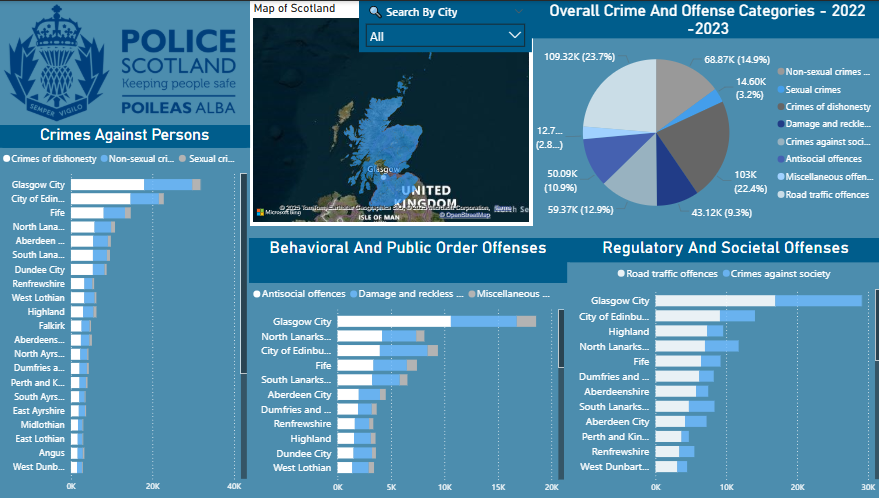

Layout of this report page (visuals, bound fields, positions):
{"tool":"powerbi","page":{"name":"Page 1","canvas":[1280,720],"ordinal":0},"visuals":[{"type":"pieChart","fields":{"Y":["Sum(Scotland Crime Report 2022-23, Cities Breakdown.All Group 1: Non-sexual crimes of violence)","Sum(Scotland Crime Report 2022-23, Cities Breakdown.All Group 2: Sexual crimes)","Sum(Scotland Crime Report 2022-23, Cities Breakdown.All Group 3: Crimes of dishonesty)","Sum(Scotland Crime Report 2022-23, Cities Breakdown.All Group 4: Damage and reckless behaviour)","Sum(Scotland Crime Report 2022-23, Cities Breakdown.All Group 5: Crimes against society)","Sum(Scotland Crime Report 2022-23, Cities Breakdown.All Group 6: Antisocial offences)","Sum(Scotland Crime Report 2022-23, Cities Breakdown.All Group 7: Miscellaneous offences)","Sum(Scotland Crime Report 2022-23, Cities Breakdown.All Group 8: Road traffic offences)"]},"box":[770.6,27.5,508.9,325.3],"z":0},{"type":"image","box":[0,0,348.4,179.3],"z":1000},{"type":"filledMap","fields":{"Category":["Scotland Crime Report 2022-23, Cities Breakdown.Reference Area"]},"box":[362.9,0,407.7,325.3],"z":2000},{"type":"barChart","title":"Crimes Against Persons","fields":{"Category":["Scotland Crime Report 2022-23, Cities Breakdown.Reference Area"],"Y":["Sum(Scotland Crime Report 2022-23, Cities Breakdown.All Group 3: Crimes of dishonesty)","Sum(Scotland Crime Report 2022-23, Cities Breakdown.All Group 1: Non-sexual crimes of violence)","Sum(Scotland Crime Report 2022-23, Cities Breakdown.All Group 2: Sexual crimes)"]},"box":[0,179.7,362.8,540.9],"z":3000},{"type":"barChart","title":"Behavioral And Public Order Offenses ","fields":{"Category":["Scotland Crime Report 2022-23, Cities Breakdown.Reference Area"],"Y":["Sum(Scotland Crime Report 2022-23, Cities Breakdown.All Group 6: Antisocial offences)","Sum(Scotland Crime Report 2022-23, Cities Breakdown.All Group 4: Damage and reckless behaviour)","Sum(Scotland Crime Report 2022-23, Cities Breakdown.All Group 7: Miscellaneous offences)"]},"box":[361.2,342.7,460.3,378],"z":4000},{"type":"barChart","title":"Regulatory And Societal Offenses ","fields":{"Category":["Scotland Crime Report 2022-23, Cities Breakdown.Reference Area"],"Y":["Sum(Scotland Crime Report 2022-23, Cities Breakdown.All Group 8: Road traffic offences)","Sum(Scotland Crime Report 2022-23, Cities Breakdown.All Group 5: Crimes against society)"]},"box":[821.2,342.7,458.3,377.3],"z":5000},{"type":"shape","title":"Overall Crime And Offense Categories - 2022 -2023","box":[769.3,0,510.7,53.8],"z":6000},{"type":"slicer","fields":{"Values":["Scotland Crime Report 2022-23, Cities Breakdown.Reference Area"]},"box":[520.5,0,250.1,73.7],"z":7000}]}

Visuals, with their boxes in screenshot pixels (x1, y1, x2, y2), scaled from the page's 1280x720 canvas onto the 879x498 screenshot:
pieChart - Sum(Scotland Crime Report 2022-23, Cities Breakdown.All Group 1: Non-sexual crimes of violence) x Sum(Scotland Crime Report 2022-23, Cities Breakdown.All Group 2: Sexual crimes): x1=529 y1=19 x2=878 y2=244
image: x1=0 y1=0 x2=239 y2=124
filledMap - Scotland Crime Report 2022-23, Cities Breakdown.Reference Area: x1=249 y1=0 x2=529 y2=225
"Crimes Against Persons" barChart: x1=0 y1=124 x2=249 y2=497
"Behavioral And Public Order Offenses " barChart: x1=248 y1=237 x2=564 y2=497
"Regulatory And Societal Offenses " barChart: x1=564 y1=237 x2=878 y2=497
"Overall Crime And Offense Categories - 2022 -2023" shape: x1=528 y1=0 x2=878 y2=37
slicer - Scotland Crime Report 2022-23, Cities Breakdown.Reference Area: x1=357 y1=0 x2=529 y2=51
